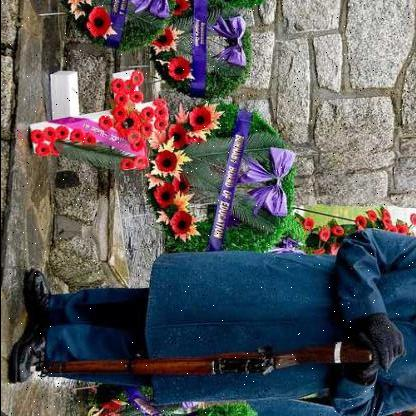rifle: (35, 341, 382, 387)
